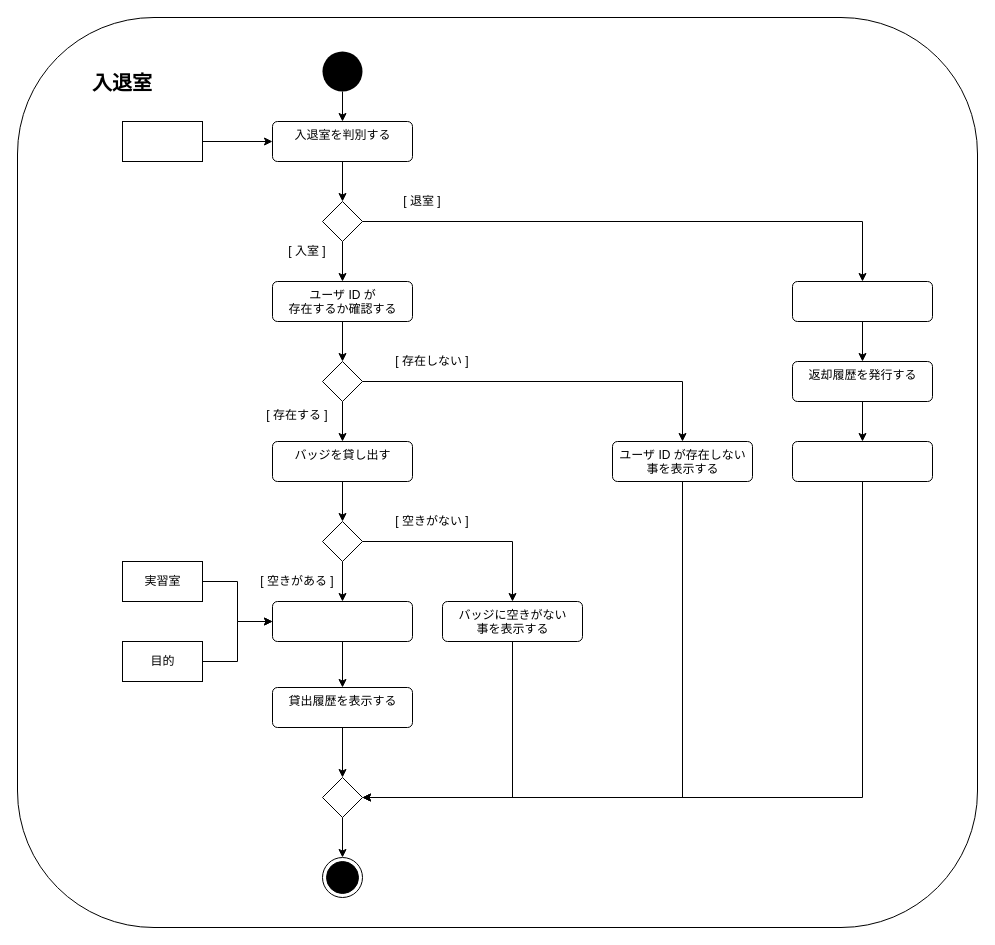
This 995x945 diagram has some shape labels left out. The shapes that lost their labels are listed below. From the top down, each one's box as (x1, y1, x2, y2) in pixels, then its label:
(122, 120, 202, 162): ユーザ ID
(792, 280, 932, 322): バッジを返却する
(792, 440, 932, 482): 返却履歴を表示する
(272, 600, 412, 642): 貸出履歴を発行する
